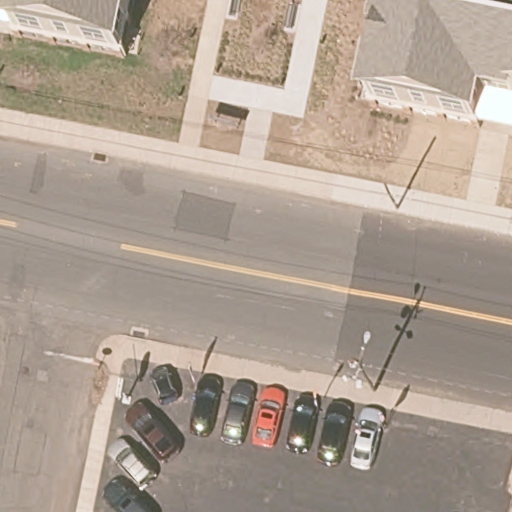DT: (341, 331, 377, 391), (379, 177, 400, 207)
